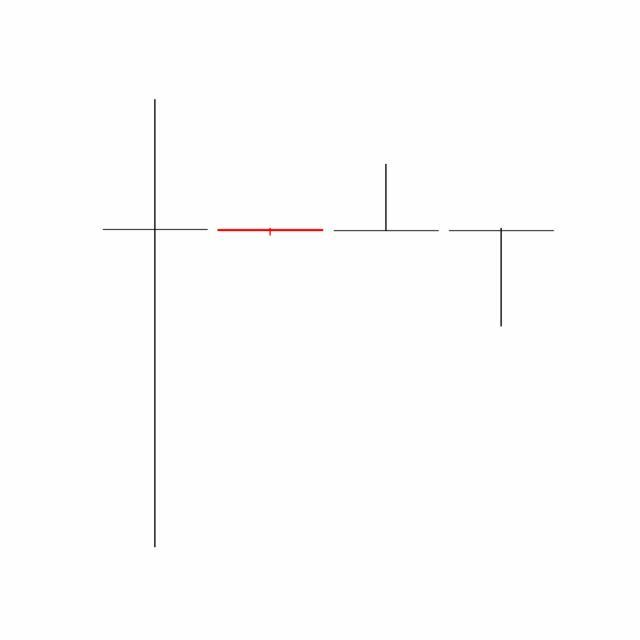Dragonfly Doji: (444, 227, 560, 329)
